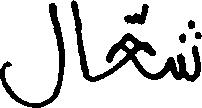X: (0, 0, 64, 107), (106, 0, 152, 84), (171, 15, 201, 86), (70, 0, 88, 85)
